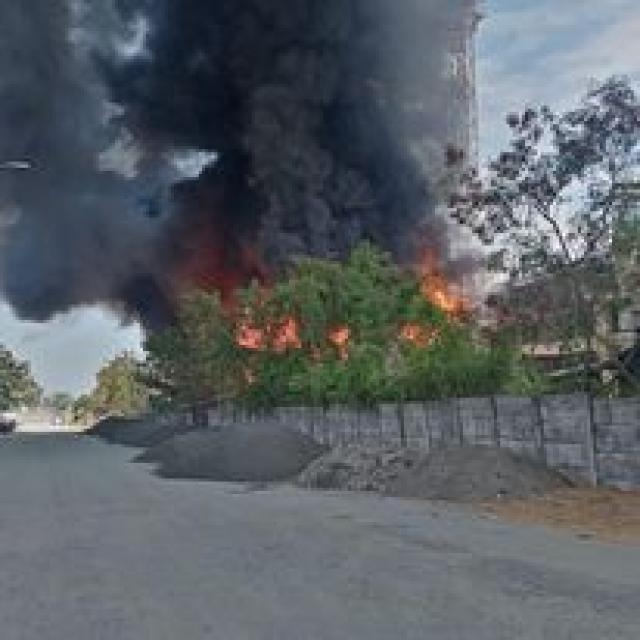Fire: (195, 243, 463, 364)
Smoke: (0, 0, 488, 328)
